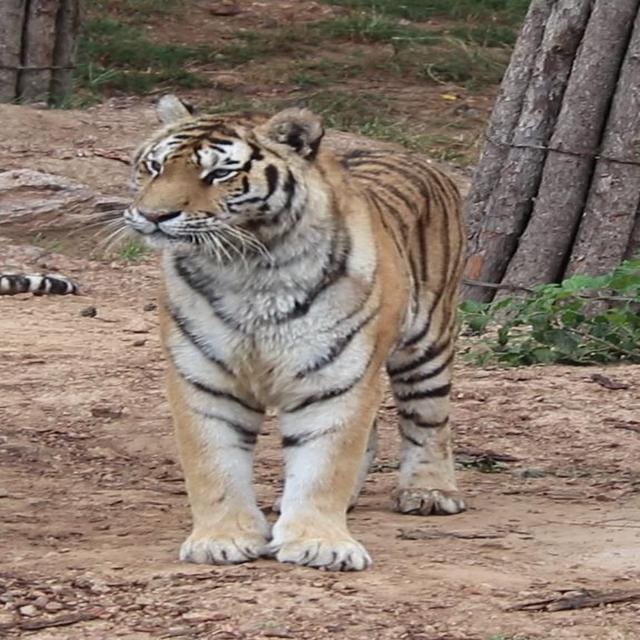tiger: (96, 92, 471, 572), (0, 269, 84, 298)
